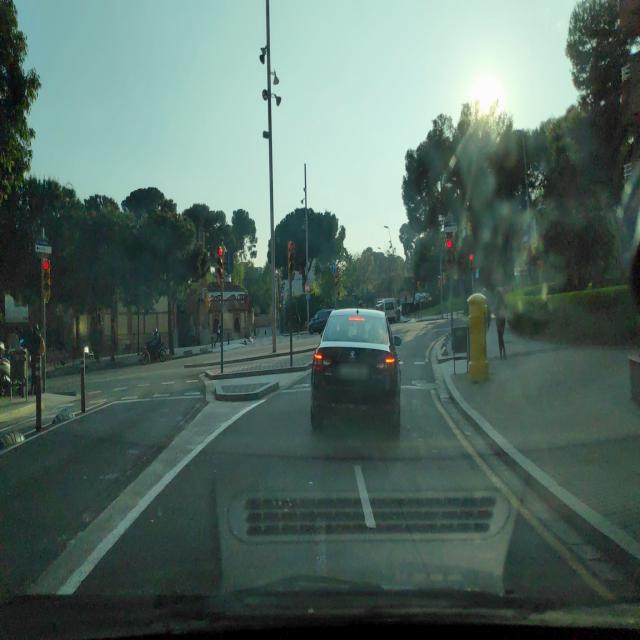bike: (138, 338, 169, 363)
car: (310, 306, 402, 434), (308, 308, 332, 334), (381, 298, 397, 323), (414, 291, 432, 306)
